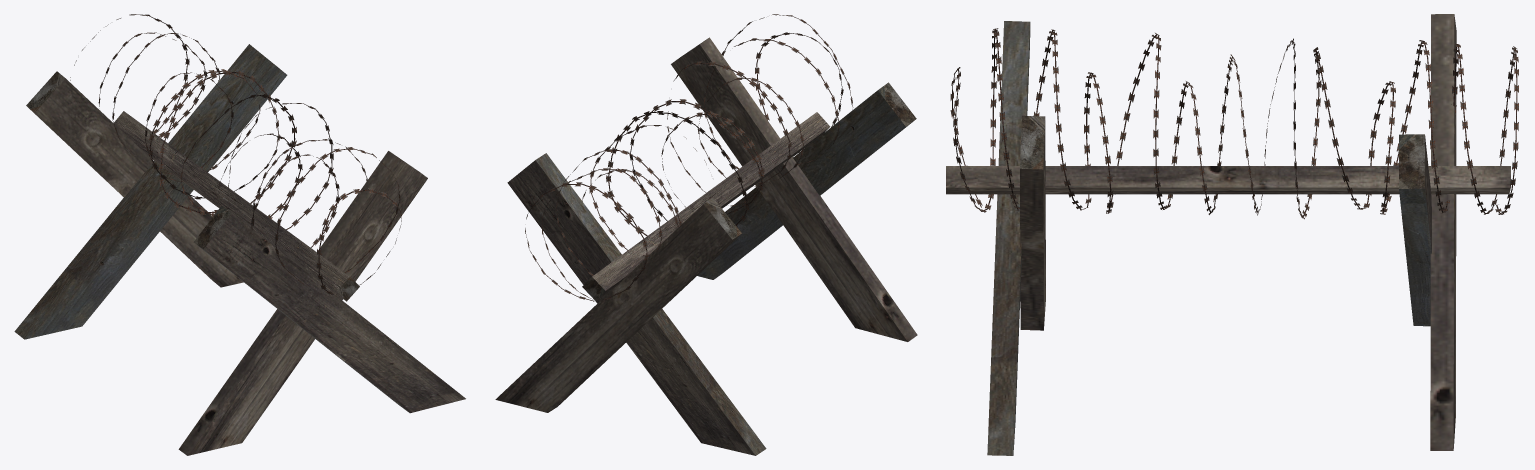
File: egoza_ograda.FBX
The picture shows the model from 3 angles, left to right: view 1: azimuth 30°, elevation 25°; view 2: azimuth 150°, elevation 25°; view 3: azimuth 270°, elevation 25°; orthographic projection. The views are drawn at different scales.
Visible parts, largest first — view 1: poddon, egoza2m001; view 2: poddon, egoza2m001; view 3: poddon, egoza2m001.
Boxes of the visible parts, box(x1,y1,x2,y2) form: poddon: box(14, 44, 465, 455); egoza2m001: box(70, 14, 401, 294); poddon: box(495, 37, 917, 455); egoza2m001: box(525, 14, 853, 301); poddon: box(946, 14, 1510, 455); egoza2m001: box(950, 28, 1518, 219).
Bounding box in the file's own units: 1.36 × 1.35 × 2.01.
